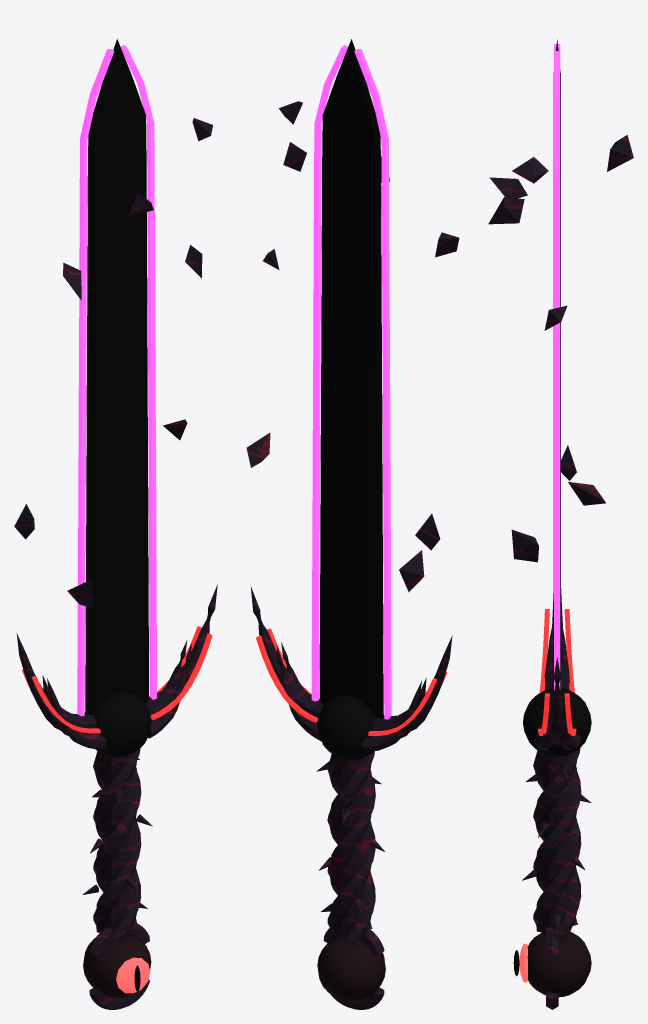
File: hoja_vacio.fbx
3 views of the same model, side by side, from view 1: azimuth 30°, elevation 25°; view 2: azimuth 150°, elevation 25°; view 3: azimuth 270°, elevation 25° (orthographic).
Parts seen in each view (by area): view 1: HojaVacio_Hoja, HojaVacio_Neon_01, HojaVacio_Empunadura, HojaVacio_Ojo, HojaVacio_Orbe, HojaVacio_Garra_Der, HojaVacio_Garra_Izq, HojaVacio_Neon_03, HojaVacio_Neon_02, HojaVacio_Fragmento_03; view 2: HojaVacio_Hoja, HojaVacio_Neon_01, HojaVacio_Empunadura, HojaVacio_Ojo, HojaVacio_Orbe, HojaVacio_Garra_Der, HojaVacio_Garra_Izq, HojaVacio_Neon_03, HojaVacio_Fragmento_03, HojaVacio_Fragmento_08, HojaVacio_Fragmento_02; view 3: HojaVacio_Empunadura, HojaVacio_Neon_01, HojaVacio_Ojo, HojaVacio_Orbe, HojaVacio_Garra_Izq, HojaVacio_Neon_03, HojaVacio_Hoja, HojaVacio_Garra_Der, HojaVacio_Fragmento_03, HojaVacio_Fragmento_01, HojaVacio_Fragmento_04, HojaVacio_Fragmento_06 (+2 smaller).
Part boxes in pixels (bbox=[...]): HojaVacio_Hoja: bbox=[85, 39, 149, 714]; HojaVacio_Neon_01: bbox=[77, 45, 156, 716]; HojaVacio_Empunadura: bbox=[82, 749, 152, 942]; HojaVacio_Ojo: bbox=[83, 922, 151, 1009]; HojaVacio_Orbe: bbox=[85, 692, 151, 757]; HojaVacio_Garra_Der: bbox=[16, 633, 106, 749]; HojaVacio_Garra_Izq: bbox=[145, 584, 217, 738]; HojaVacio_Neon_03: bbox=[22, 626, 212, 733]; HojaVacio_Neon_02: bbox=[116, 957, 150, 993]; HojaVacio_Fragmento_03: bbox=[67, 581, 93, 608]; HojaVacio_Hoja: bbox=[319, 39, 383, 717]; HojaVacio_Neon_01: bbox=[311, 45, 391, 719]; HojaVacio_Empunadura: bbox=[316, 751, 384, 945]; HojaVacio_Ojo: bbox=[317, 928, 385, 1009]; HojaVacio_Orbe: bbox=[317, 695, 383, 759]; HojaVacio_Garra_Der: bbox=[362, 635, 452, 751]; HojaVacio_Garra_Izq: bbox=[250, 586, 323, 740]; HojaVacio_Neon_03: bbox=[256, 628, 447, 735]; HojaVacio_Fragmento_03: bbox=[399, 550, 424, 592]; HojaVacio_Fragmento_08: bbox=[246, 432, 270, 467]; HojaVacio_Fragmento_02: bbox=[415, 513, 440, 550]; HojaVacio_Empunadura: bbox=[522, 748, 591, 941]; HojaVacio_Neon_01: bbox=[554, 44, 560, 690]; HojaVacio_Ojo: bbox=[513, 926, 591, 1009]; HojaVacio_Orbe: bbox=[523, 688, 591, 756]; HojaVacio_Garra_Izq: bbox=[533, 657, 580, 750]; HojaVacio_Neon_03: bbox=[538, 609, 576, 735]; HojaVacio_Hoja: bbox=[553, 39, 560, 691]; HojaVacio_Garra_Der: bbox=[544, 588, 569, 690]; HojaVacio_Fragmento_03: bbox=[511, 529, 538, 562]; HojaVacio_Fragmento_01: bbox=[488, 197, 524, 224]; HojaVacio_Fragmento_04: bbox=[607, 135, 633, 171]; HojaVacio_Fragmento_06: bbox=[489, 177, 527, 201].
Size of the model in its own units: 0.2643 by 1.25 by 0.1661.
4 materials, 1 textured.
